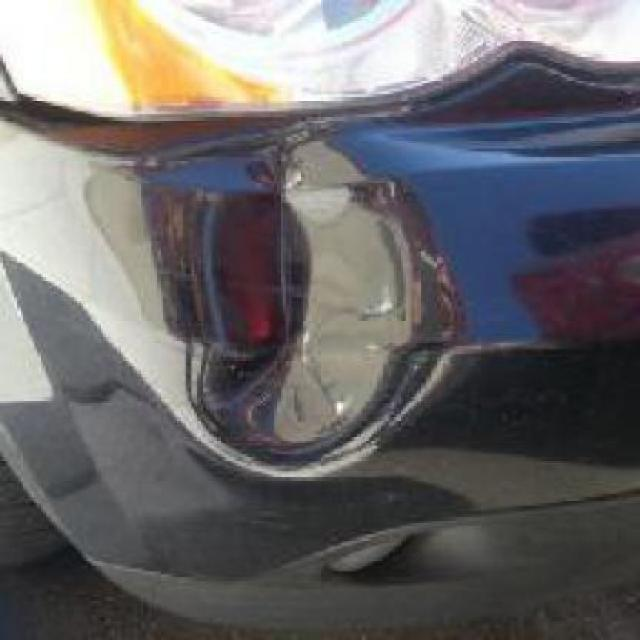dent-or-scratch: (140, 150, 462, 484)
